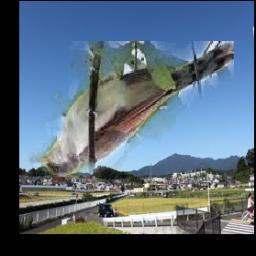Cuckoo: (28, 42, 234, 178)
